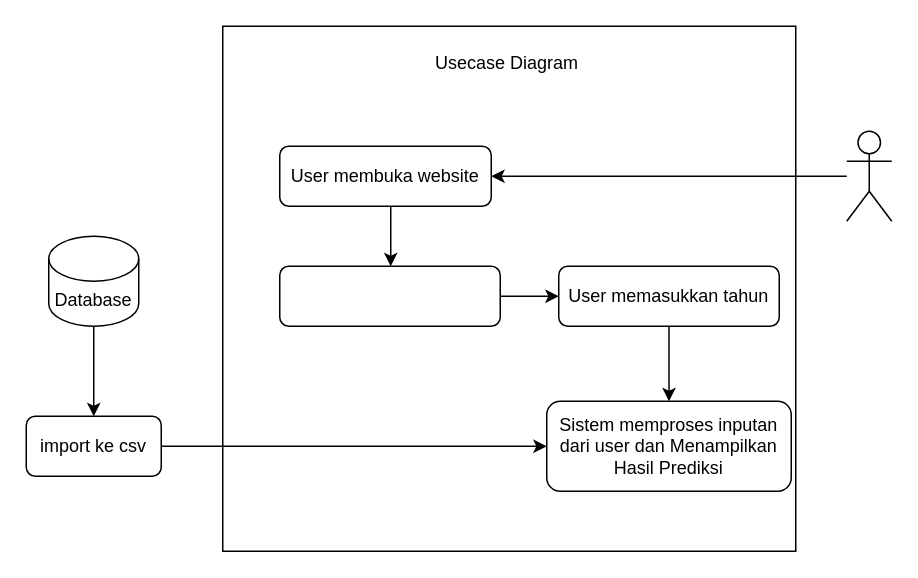
The diagram is 918 pixels wide and 578 high, and some of its shapes have lost their labels. Here are the shapes that lost their labels. From the top down, the box of each, then its label:
(845, 130, 892, 221): User
(278, 265, 500, 326): sistem menampilkan halaman website
